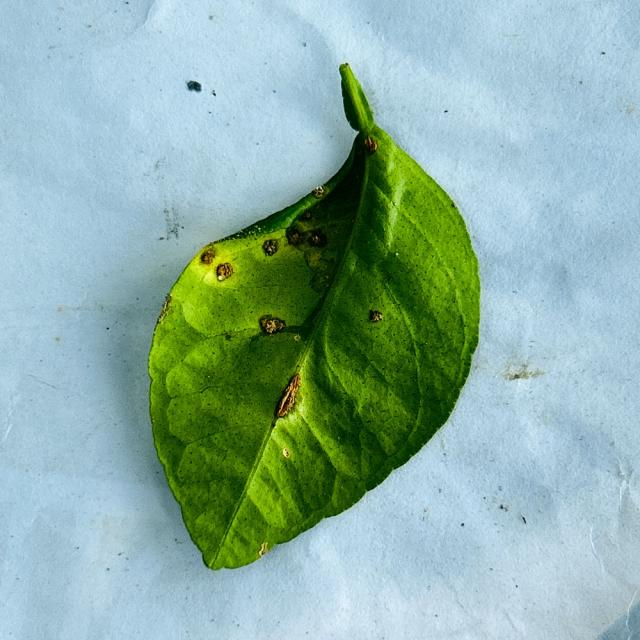Anthracnose: (275, 374, 301, 418), (259, 316, 284, 335), (307, 230, 328, 248), (216, 262, 234, 282), (286, 227, 304, 245), (369, 305, 385, 324), (262, 239, 278, 256), (364, 135, 378, 154), (200, 250, 215, 265), (312, 186, 325, 199), (300, 211, 313, 221)
Lemon: (147, 65, 482, 572)
